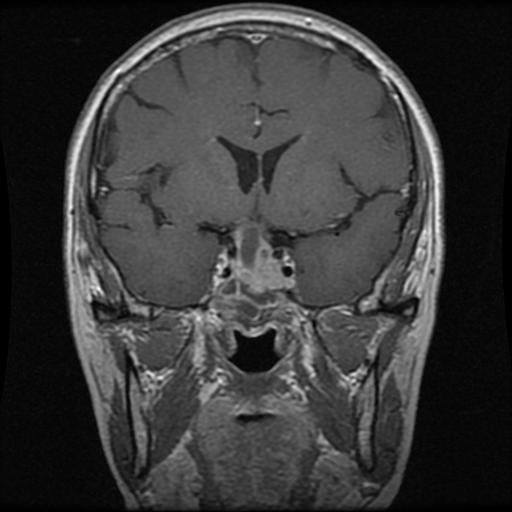Pituirity_tumour: (228, 221, 286, 303)
